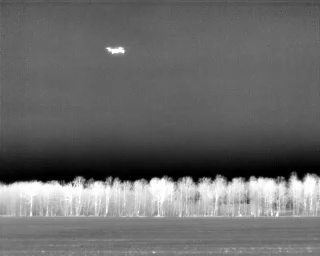DRONE: (102, 42, 130, 59)
